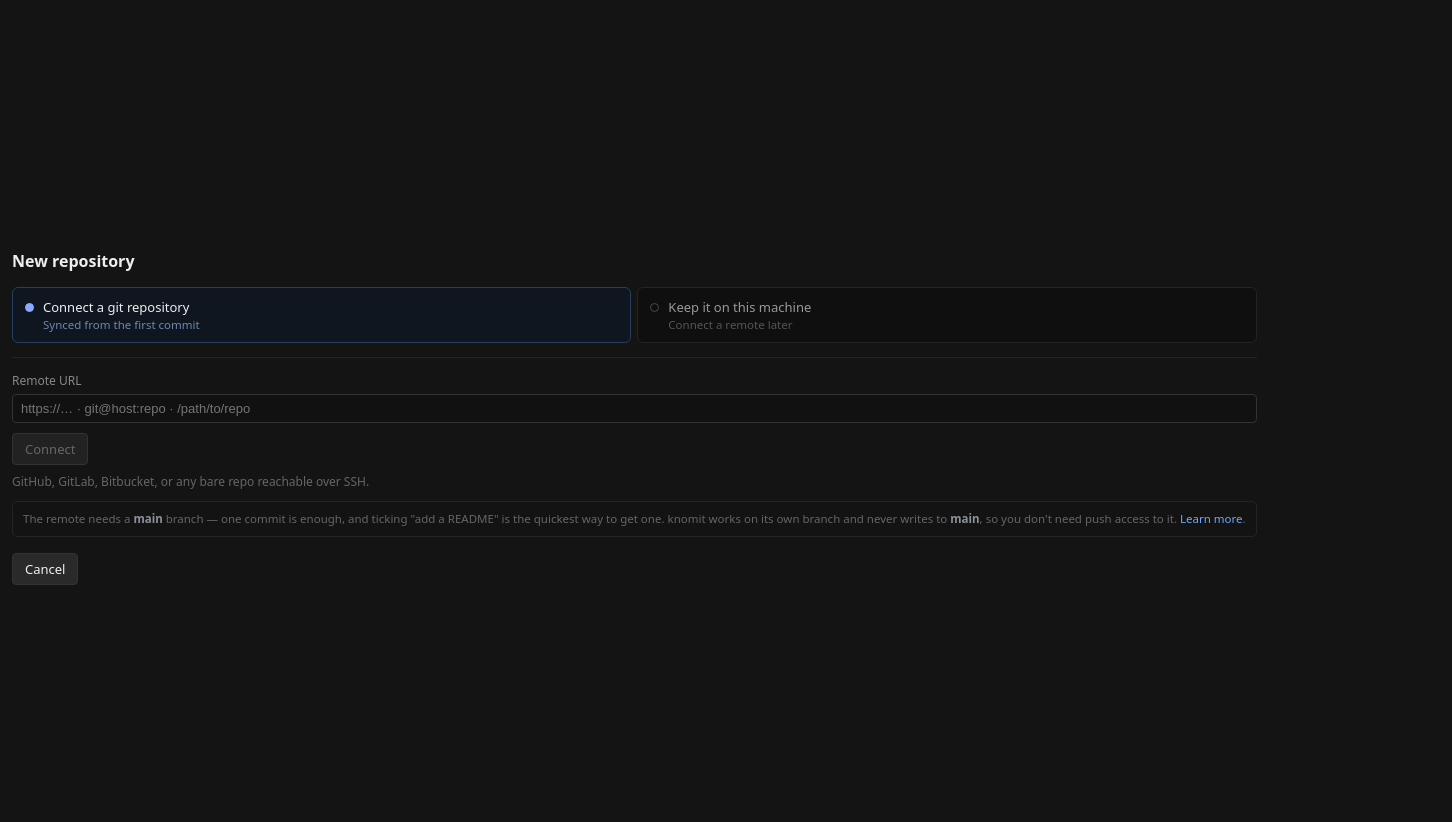
Test case: the wizard against a fake git host › push access is checked, not assumed › warns when the remote can be read but not pushed to
In the field with test id "create-url": (634, 409) [12,394,1257,423], type "https://h/new.git"
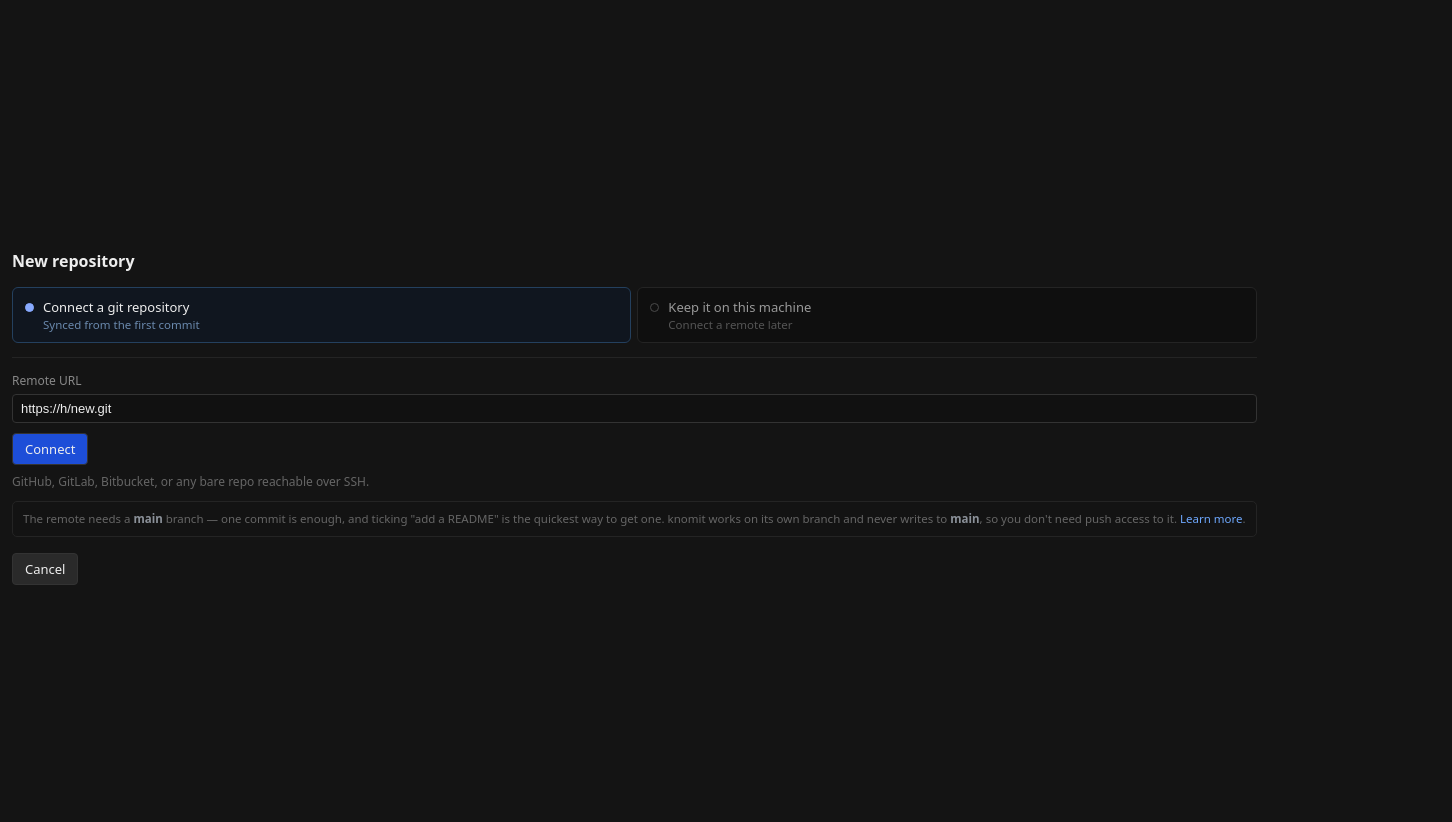
Click the button with test id "probe-button": (50, 449) [12,433,88,465]
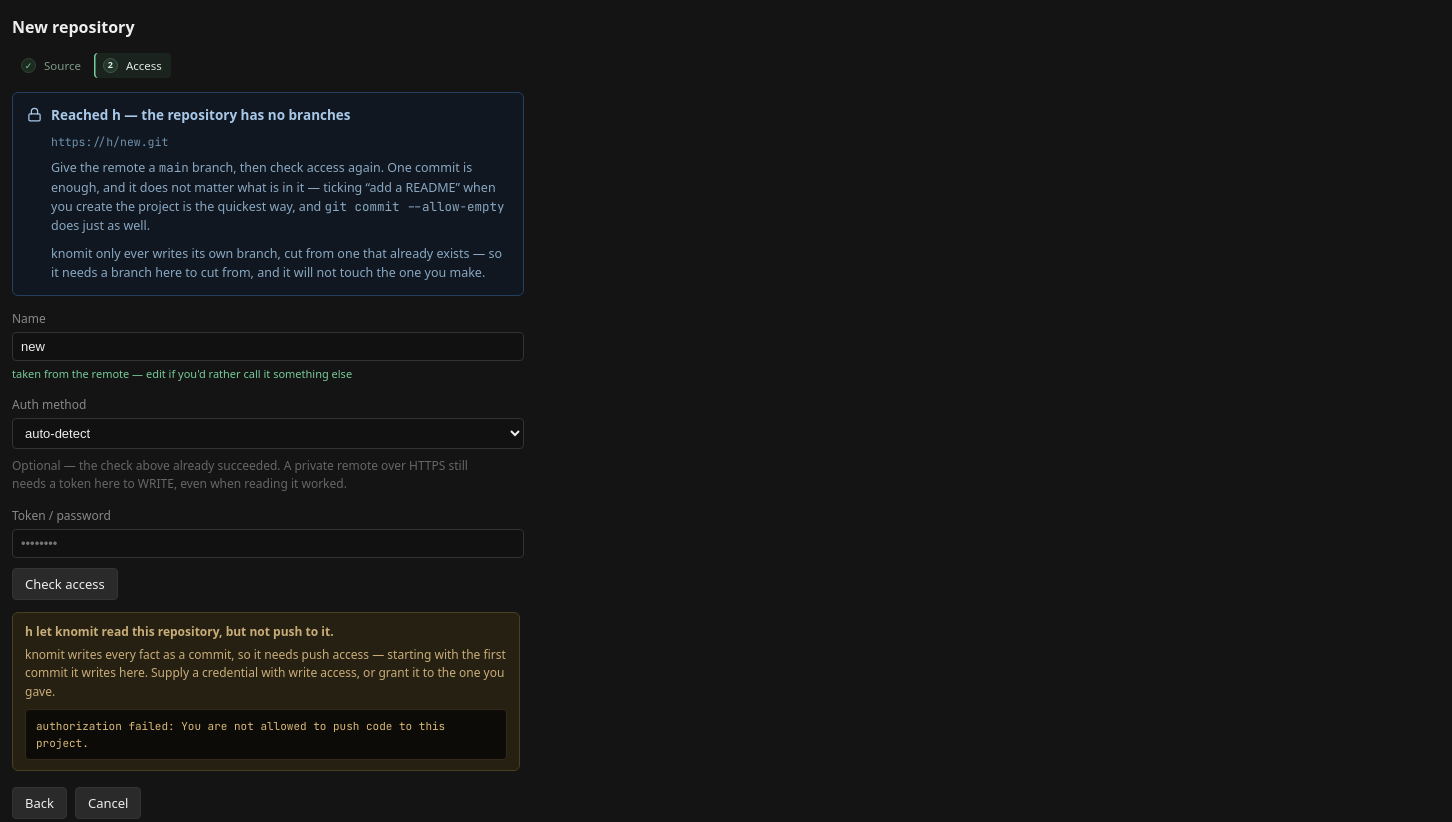
Expected: the element with test id "step-access" is shown, [12,92,524,771]
Expected: the element with test id "write-denied" is shown, [12,612,520,772]
Expected: the text with test id "write-denied-detail" shows "not allowed to push code", [36,719,452,750]
